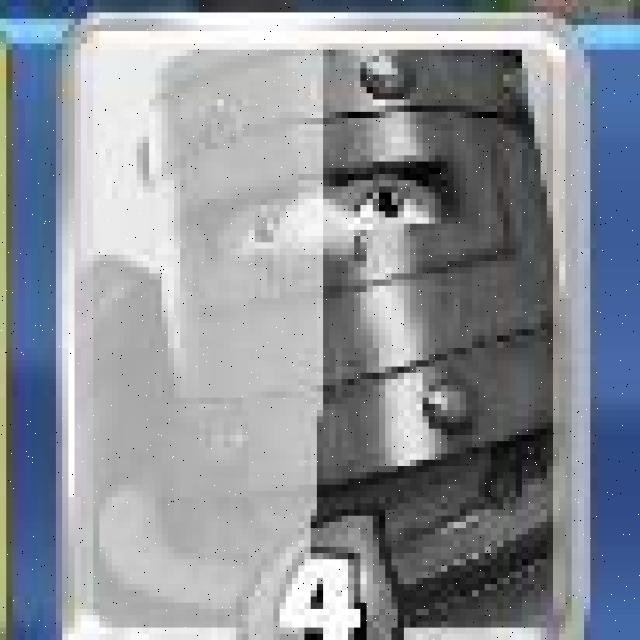Dark_Prince: (52, 8, 584, 640)
